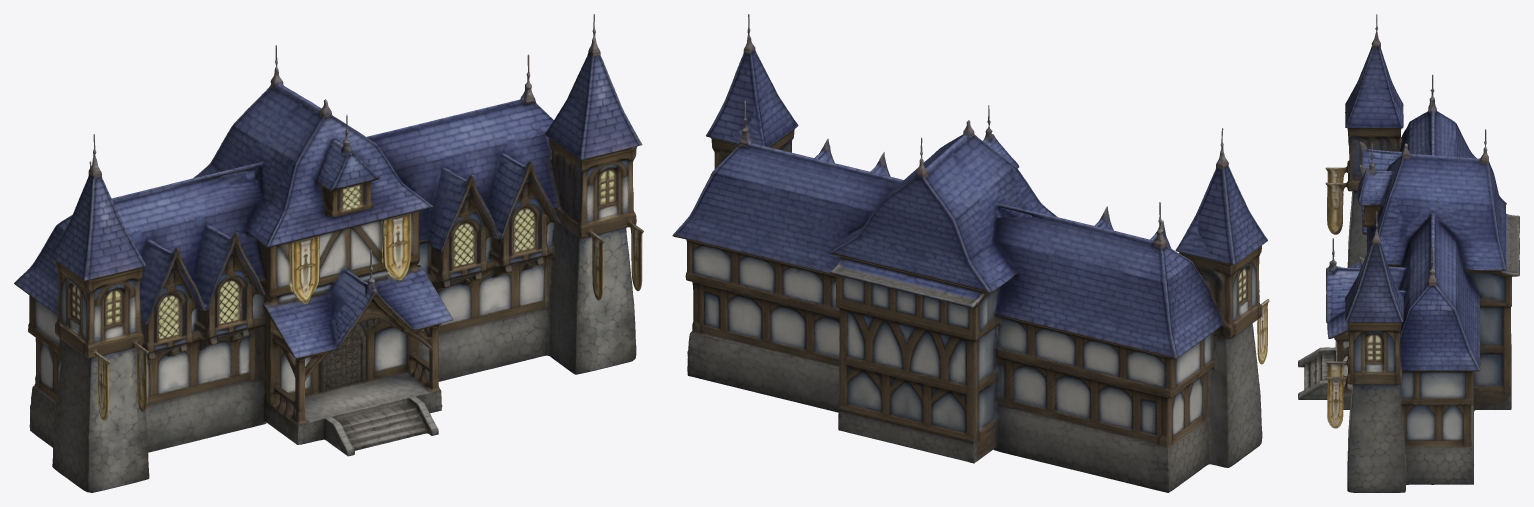
Rendered from hofkanzlei.glb.
3 views of the same model, side by side, from view 1: azimuth 30°, elevation 25°; view 2: azimuth 150°, elevation 25°; view 3: azimuth 270°, elevation 25° (orthographic). The views are drawn at different scales.
Bounding box in the file's own units: 1.9 × 1.11 × 0.8127.
1 material, 1 textured.
